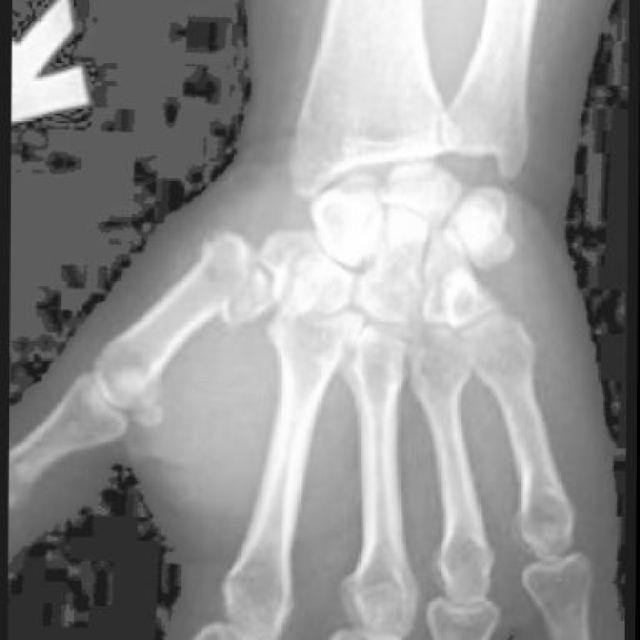Fracture: (203, 235, 287, 334)
